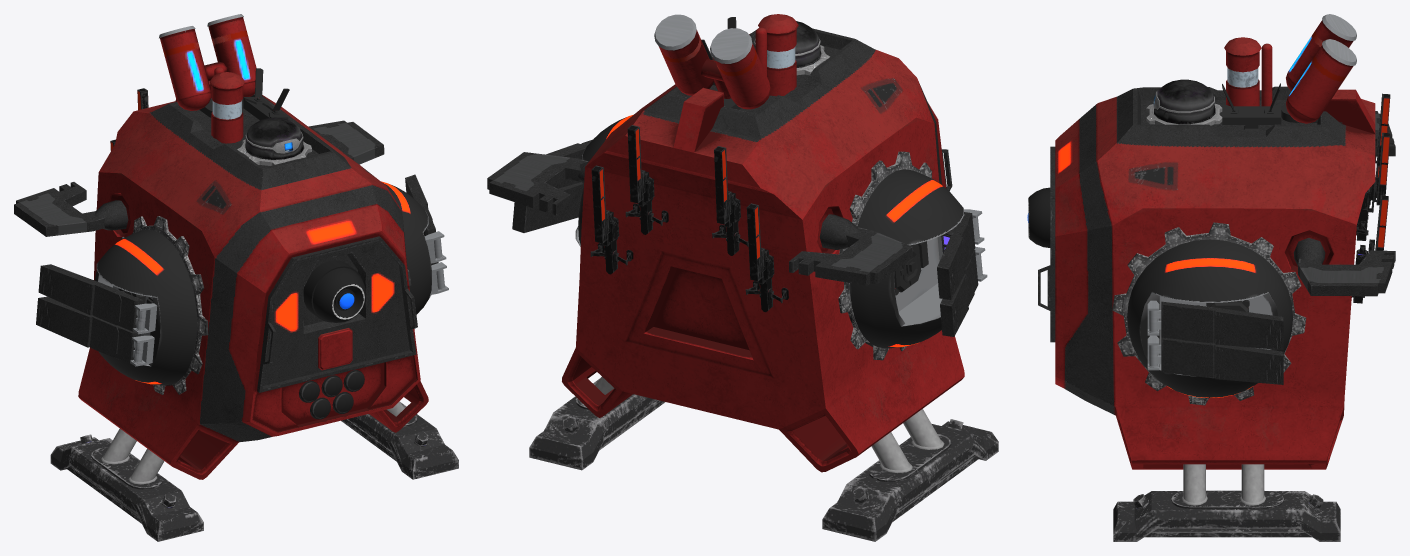
Rendered from Penguin_Brown.glb.
The picture shows the model from 3 angles, left to right: view 1: azimuth 30°, elevation 25°; view 2: azimuth 150°, elevation 25°; view 3: azimuth 270°, elevation 25°; orthographic projection. The views are drawn at different scales.
Visible parts, largest first — view 1: Penguin; view 2: Penguin; view 3: Penguin.
Part boxes in pixels (x1,y1,x2,y2): Penguin: [14, 14, 458, 541]; Penguin: [487, 14, 998, 541]; Penguin: [1027, 14, 1395, 541].
Size of the model in its own units: 1.46 by 1.49 by 1.14.
1 material, 1 textured.
